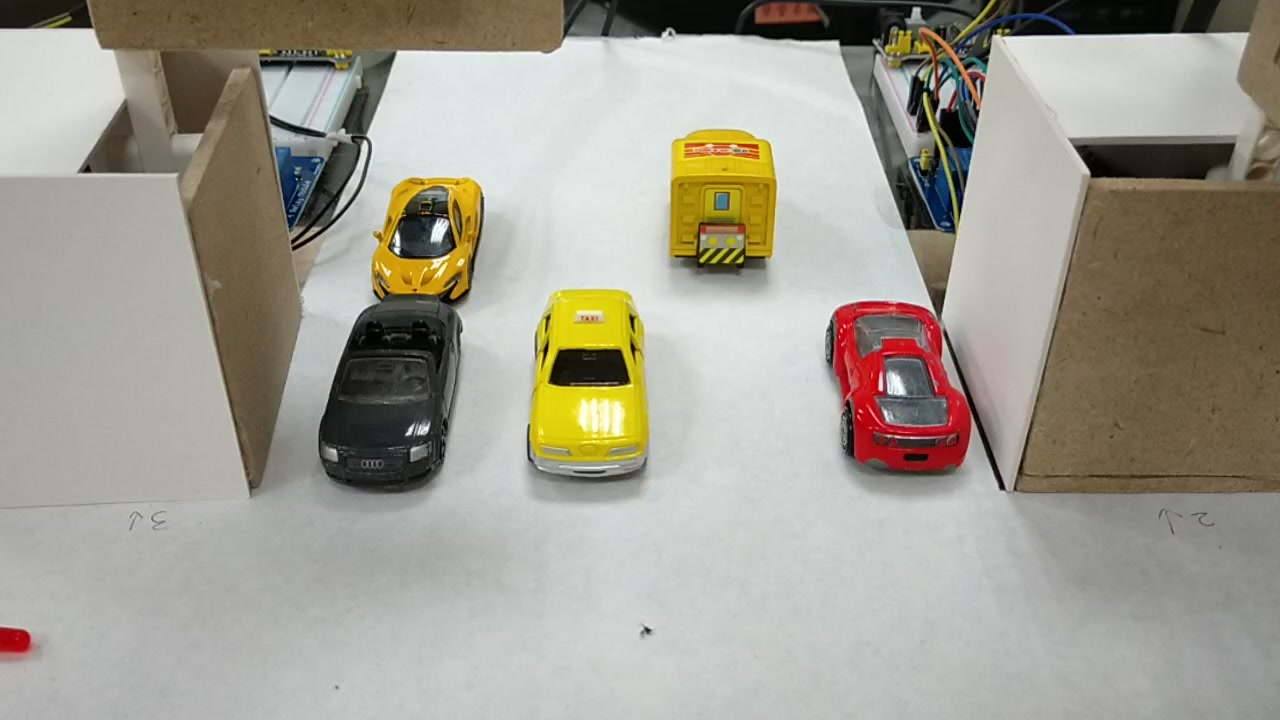car: (311, 298, 461, 484), (825, 300, 971, 475), (522, 289, 650, 476), (372, 175, 489, 294)
